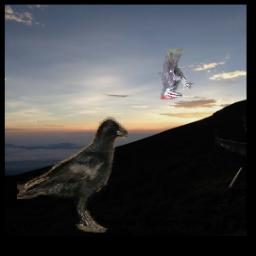Crow: (16, 117, 127, 232)
Woodpecker: (161, 49, 195, 100)
